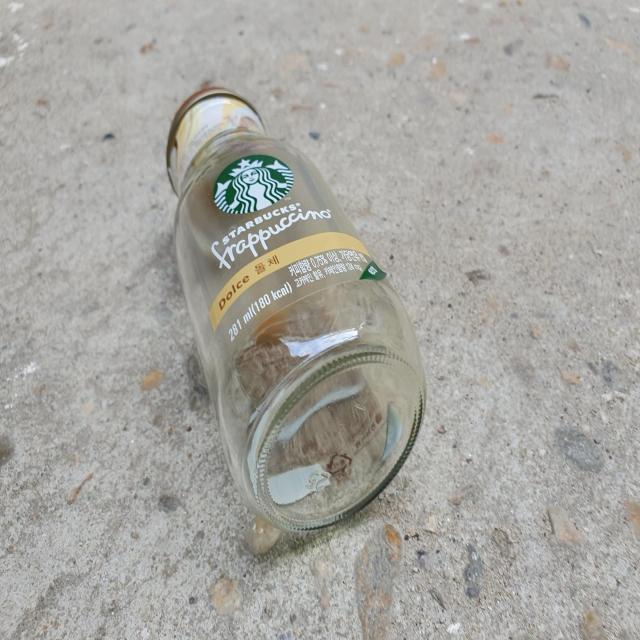glass: (166, 87, 426, 532)
